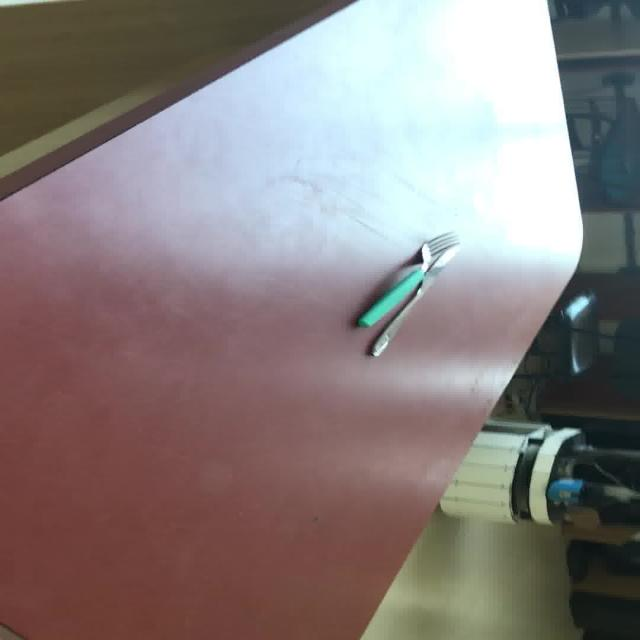fork: (366, 230, 459, 356), (355, 230, 458, 328)
knife fork: (355, 230, 460, 357)
